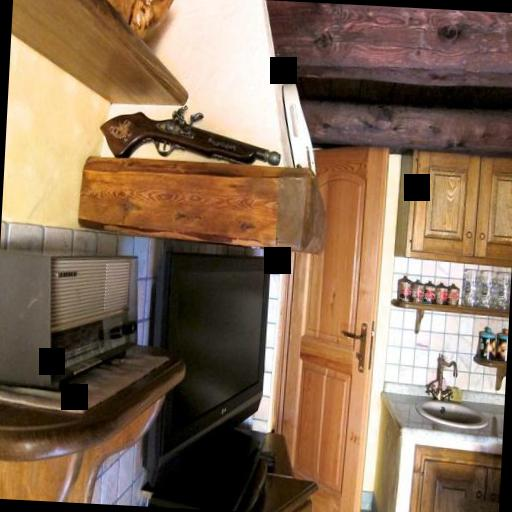Handgun: (96, 101, 280, 177)
